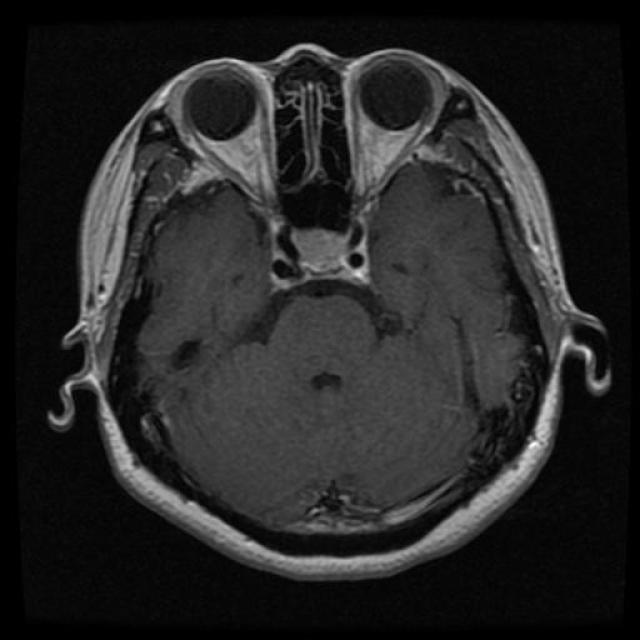pituitary: (266, 224, 382, 292)
